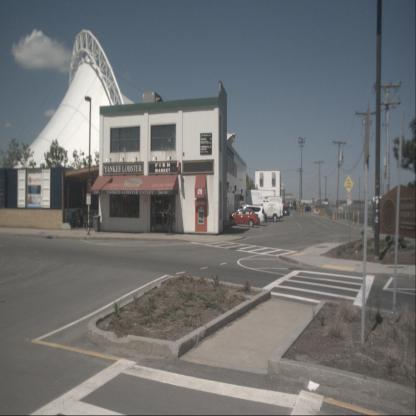human-pedestrian-adult: (77, 209, 83, 227)
vehicle-car: (228, 209, 258, 228), (237, 206, 265, 225), (255, 202, 280, 222), (282, 206, 288, 215)
vehicle-truck: (238, 190, 276, 216), (257, 195, 283, 221)
